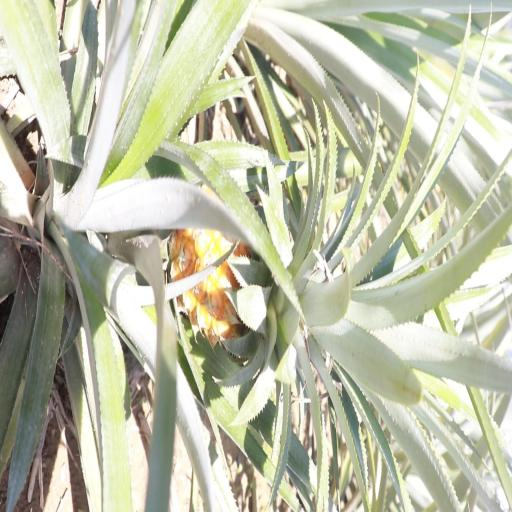Pineapple - v8 v1: (176, 202, 432, 403)
